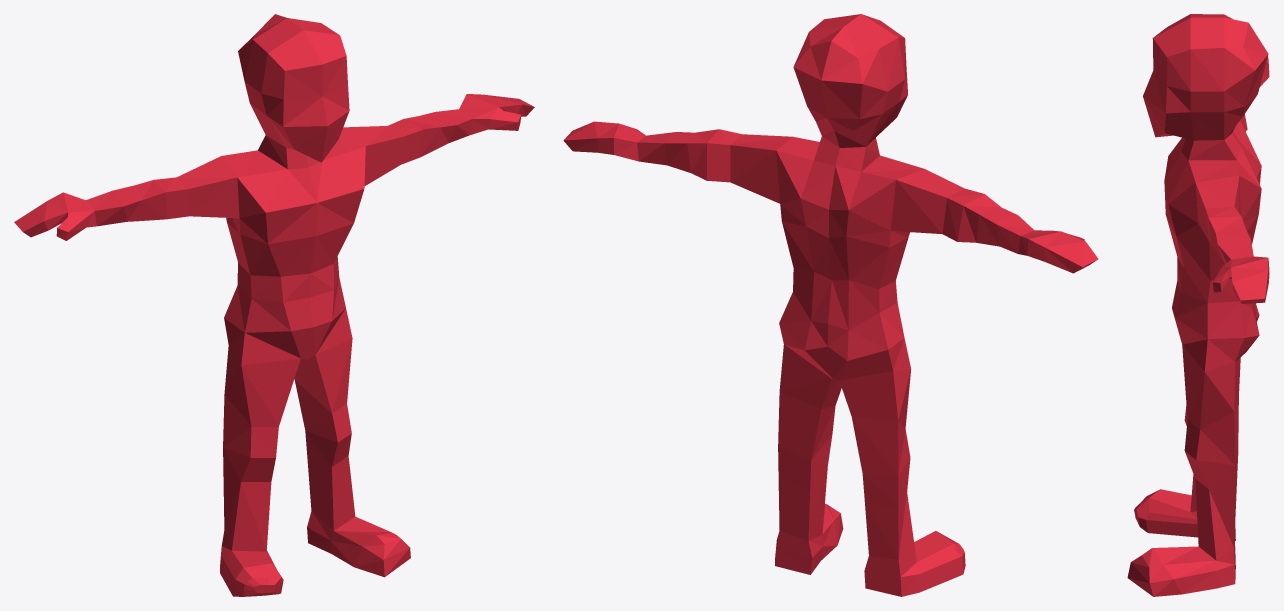
Rendered from Game char endgame idle objesi se.fbx.
3 renders of one model, left to right at view 1: azimuth 30°, elevation 25°; view 2: azimuth 150°, elevation 25°; view 3: azimuth 270°, elevation 25°, orthographic. The views are drawn at different scales.
Parts seen in each view (by area): view 1: Cube.000; view 2: Cube.000; view 3: Cube.000.
Boxes of the visible parts, box(x1,y1,x2,y2) form: Cube.000: box(14, 14, 534, 596); Cube.000: box(563, 14, 1098, 596); Cube.000: box(1127, 14, 1269, 596).
Size of the model in its own units: 1176 by 1177 by 282.
